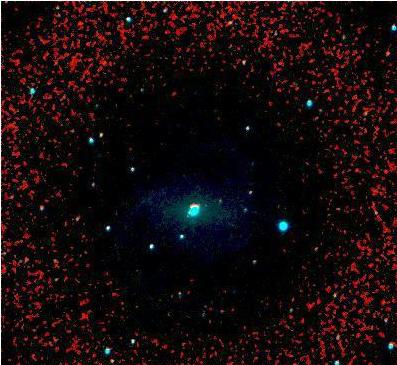star: (179, 210, 209, 240)
